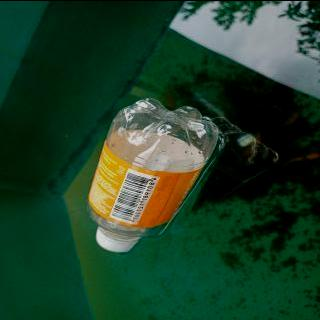bottle: (83, 95, 223, 254)
